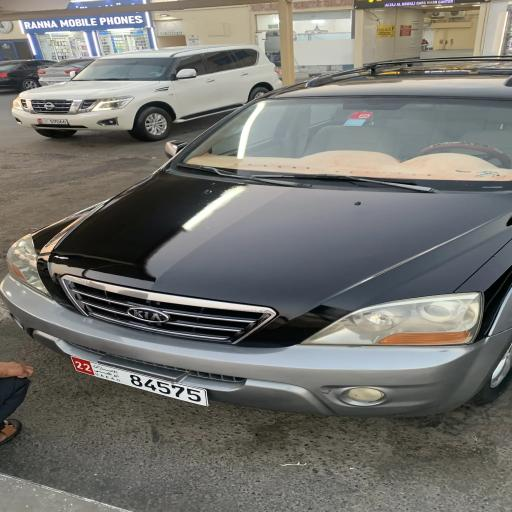license-plates: (71, 357, 208, 407), (37, 119, 68, 124)
